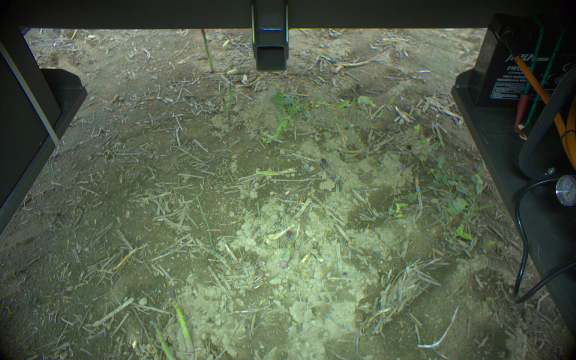aspa: (166, 285, 194, 352), (146, 312, 178, 360), (199, 29, 215, 73), (345, 82, 362, 121), (280, 230, 294, 269), (320, 157, 336, 181)
